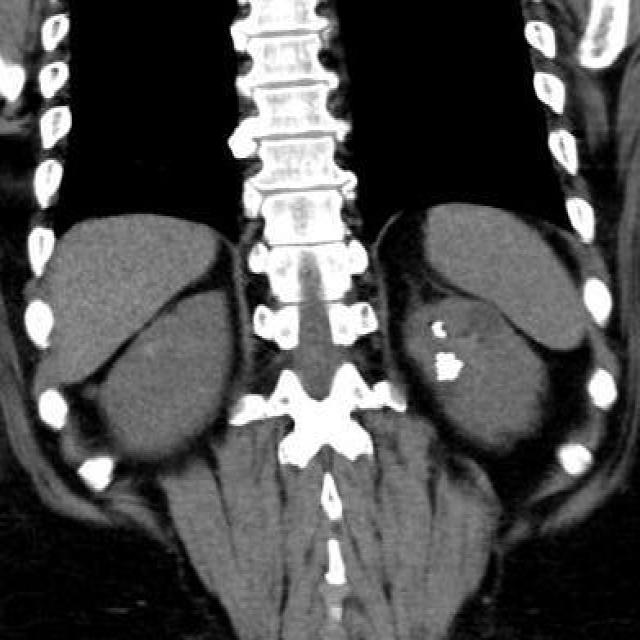Tas_Var: (434, 346, 465, 384), (430, 319, 452, 339)
